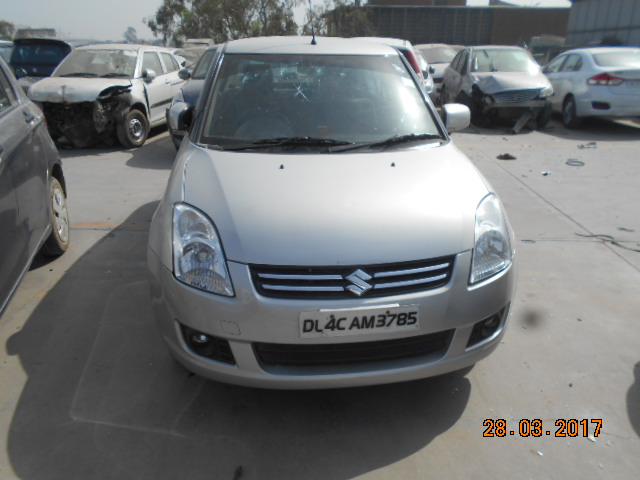Shatter: (278, 66, 316, 104)
